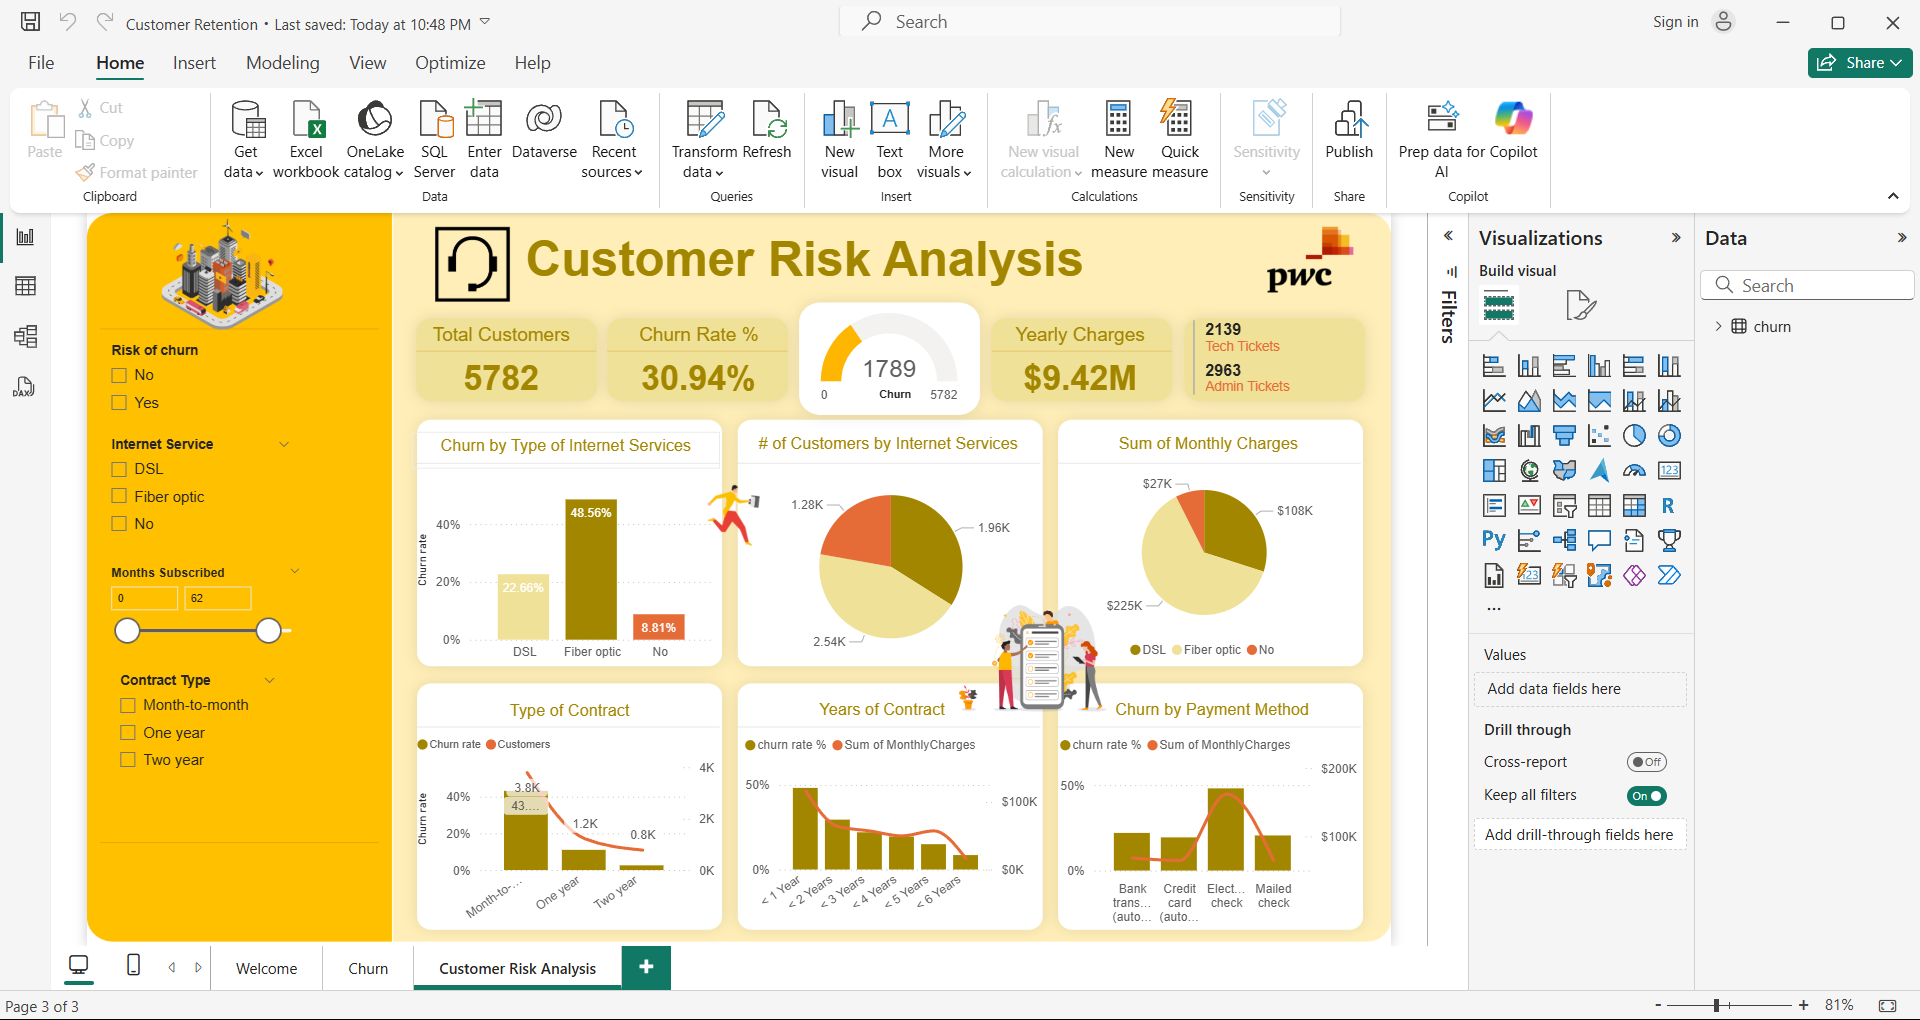

The page's visual inventory and layout, read from the dashboard file:
{"tool":"powerbi","page":{"name":"Customer Risk Analysis","canvas":[1280,720],"ordinal":2},"visuals":[{"type":"textbox","box":[425.5,13.6,569.3,70.2],"z":1000},{"type":"image","box":[1139.6,9,121.5,74.2],"z":2000},{"type":"image","box":[331.6,9.1,93.9,83.7],"z":3000},{"type":"card","fields":{"Values":["CountNonNull(churn.customerID)"]},"box":[319.2,134.7,175.4,52.1],"z":4000},{"type":"card","fields":{"Values":["churn.churn rate %"]},"box":[512.7,134.7,175.4,52.1],"z":5000},{"type":"gauge","fields":{"MaxValue":["CountNonNull(churn.customerID)"],"Y":["churn.Count of Churn for Yes"]},"box":[698.3,92.8,178.8,100.7],"z":6000},{"type":"textbox","box":[763.9,164.1,57.7,29.4],"z":7000},{"type":"card","fields":{"Values":["Sum(churn.TotalCharges)"]},"box":[887.3,134.7,175.4,52.1],"z":8000},{"type":"multiRowCard","fields":{"Values":["Sum(churn.numTechTickets)","Sum(churn.numAdminTickets)"]},"box":[1080.8,100.7,179.9,86],"z":9000},{"type":"image","box":[68.8,0,127.9,120.6],"z":10000},{"type":"clusteredColumnChart","fields":{"Category":["churn.InternetService"],"Y":["churn.churn rate %"]},"box":[319.2,247.9,302.2,199.2],"z":11000},{"type":"pieChart","fields":{"Category":["churn.InternetService"],"Y":["CountNonNull(churn.customerID)"]},"box":[640.6,247.9,297.6,199.2],"z":12000},{"type":"pieChart","fields":{"Y":["Sum(churn.MonthlyCharges)"],"Category":["churn.InternetService"]},"box":[949.5,247.9,294.3,199.2],"z":13000},{"type":"lineClusteredColumnComboChart","fields":{"Category":["churn.Contract"],"Y":["churn.churn rate %"],"Y2":["CountNonNull(churn.customerID)"]},"box":[319.2,502.5,302.2,202.6],"z":14000},{"type":"lineClusteredColumnComboChart","fields":{"Y":["churn.churn rate %"],"Y2":["Sum(churn.MonthlyCharges)"],"Category":["churn.Loyalty"]},"box":[640.6,502.5,297.6,202.6],"z":15000},{"type":"lineClusteredColumnComboChart","fields":{"Y":["churn.churn rate %"],"Y2":["Sum(churn.MonthlyCharges)"],"Category":["churn.PaymentMethod"]},"box":[949.5,502.5,302.2,202.6],"z":16000},{"type":"image","box":[842,373.5,191.3,129],"z":17000},{"type":"image","box":[601,230.9,65.6,129],"z":18000},{"type":"slicer","fields":{"Values":["churn.Churn"]},"box":[11.3,122.2,170.9,83.7],"z":19000},{"type":"slicer","fields":{"Values":["churn.InternetService"]},"box":[11.3,215,200.3,116.6],"z":20000},{"type":"slicer","title":"Number of months subscribed","fields":{"Values":["churn.tenure"]},"box":[11.3,340.7,210.5,106.4],"z":21000},{"type":"slicer","fields":{"Values":["churn.Contract"]},"box":[19.2,447,177.7,112],"z":22000},{"type":"textbox","box":[319.2,104.1,175.4,36.2],"z":23000},{"type":"textbox","box":[512.7,104.1,175.4,36.2],"z":24000},{"type":"textbox","box":[887.3,104.1,175.4,36.2],"z":25000},{"type":"textbox","box":[319.2,215,302.2,36.2],"z":26000},{"type":"textbox","box":[636,212.8,302.2,36.2],"z":27000},{"type":"textbox","box":[949.5,212.8,302.2,36.2],"z":28000},{"type":"textbox","box":[322.5,474.4,302.2,36.2],"z":29000},{"type":"textbox","box":[629.2,473.1,302.2,36.2],"z":30000},{"type":"textbox","box":[952.9,473.2,302.2,36.2],"z":31000}]}

Visuals, with their boxes on the page's 1280x720 design canvas (x1, y1, x2, y2). These are canvas units, not pixel positions in the 1920x1020 screenshot, which may show the page scaled, cropped or inside an application window:
textbox: [left=426, top=14, right=995, bottom=84]
image: [left=1140, top=9, right=1261, bottom=83]
image: [left=332, top=9, right=426, bottom=93]
card - CountNonNull(churn.customerID): [left=319, top=135, right=495, bottom=187]
card - churn.churn rate %: [left=513, top=135, right=688, bottom=187]
gauge - CountNonNull(churn.customerID) x churn.Count of Churn for Yes: [left=698, top=93, right=877, bottom=194]
textbox: [left=764, top=164, right=822, bottom=194]
card - Sum(churn.TotalCharges): [left=887, top=135, right=1063, bottom=187]
multiRowCard - Sum(churn.numTechTickets) x Sum(churn.numAdminTickets): [left=1081, top=101, right=1261, bottom=187]
image: [left=69, top=0, right=197, bottom=121]
clusteredColumnChart - churn.InternetService x churn.churn rate %: [left=319, top=248, right=621, bottom=447]
pieChart - churn.InternetService x CountNonNull(churn.customerID): [left=641, top=248, right=938, bottom=447]
pieChart - Sum(churn.MonthlyCharges) x churn.InternetService: [left=950, top=248, right=1244, bottom=447]
lineClusteredColumnComboChart - churn.Contract x churn.churn rate %: [left=319, top=502, right=621, bottom=705]
lineClusteredColumnComboChart - churn.churn rate % x Sum(churn.MonthlyCharges): [left=641, top=502, right=938, bottom=705]
lineClusteredColumnComboChart - churn.churn rate % x Sum(churn.MonthlyCharges): [left=950, top=502, right=1252, bottom=705]
image: [left=842, top=374, right=1033, bottom=502]
image: [left=601, top=231, right=667, bottom=360]
slicer - churn.Churn: [left=11, top=122, right=182, bottom=206]
slicer - churn.InternetService: [left=11, top=215, right=212, bottom=332]
"Number of months subscribed" slicer: [left=11, top=341, right=222, bottom=447]
slicer - churn.Contract: [left=19, top=447, right=197, bottom=559]
textbox: [left=319, top=104, right=495, bottom=140]
textbox: [left=513, top=104, right=688, bottom=140]
textbox: [left=887, top=104, right=1063, bottom=140]
textbox: [left=319, top=215, right=621, bottom=251]
textbox: [left=636, top=213, right=938, bottom=249]
textbox: [left=950, top=213, right=1252, bottom=249]
textbox: [left=322, top=474, right=625, bottom=511]
textbox: [left=629, top=473, right=931, bottom=509]
textbox: [left=953, top=473, right=1255, bottom=509]
